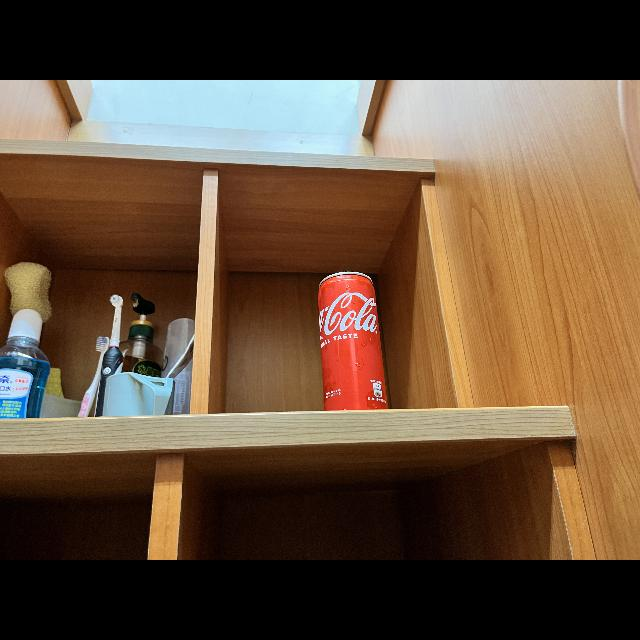can: (314, 270, 390, 408)
